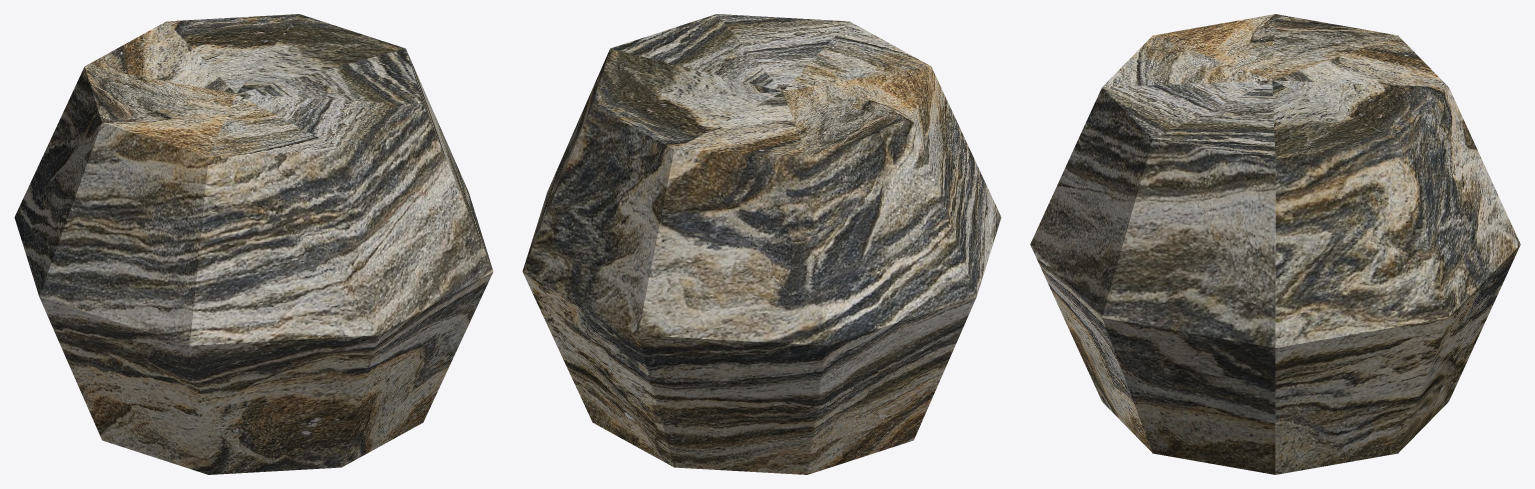
File: rock 4.fbx
The picture shows the model from 3 angles, left to right: view 1: azimuth 30°, elevation 25°; view 2: azimuth 150°, elevation 25°; view 3: azimuth 270°, elevation 25°; orthographic projection.
Parts seen in each view (by area): view 1: Sphere; view 2: Sphere; view 3: Sphere.
Part boxes in pixels (left/top/right/bottom): Sphere: left=14, top=14, right=493, bottom=474; Sphere: left=522, top=14, right=1001, bottom=474; Sphere: left=1030, top=14, right=1520, bottom=474.
Size of the model in its own units: 159 by 118 by 159.
1 material, 1 textured.
